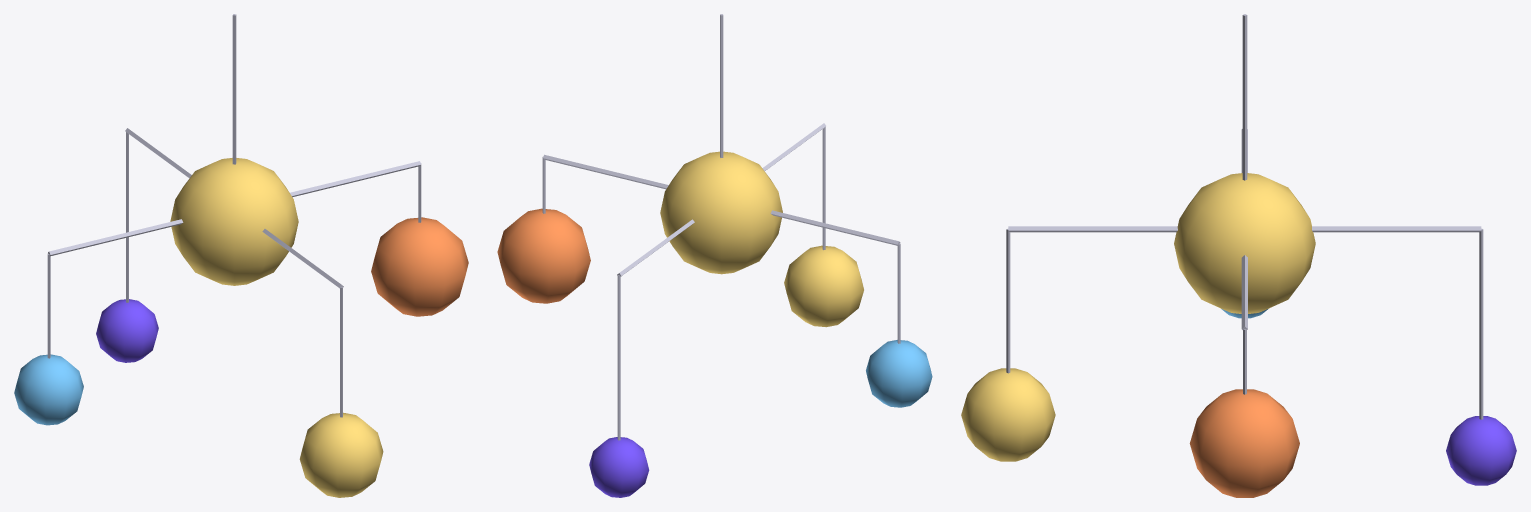
The model's file is HangSpace.fbx.
3 views of the same model, side by side, from view 1: azimuth 30°, elevation 25°; view 2: azimuth 150°, elevation 25°; view 3: azimuth 270°, elevation 25° (orthographic). The views are drawn at different scales.
Parts seen in each view (by area): view 1: HangSpace; view 2: HangSpace; view 3: HangSpace.
Part boxes in pixels (box(x1,y1,x2,y2)): HangSpace: box(14, 14, 468, 497); HangSpace: box(497, 14, 932, 497); HangSpace: box(961, 14, 1516, 497).
Size of the model in its own units: 714 by 655 by 705.
